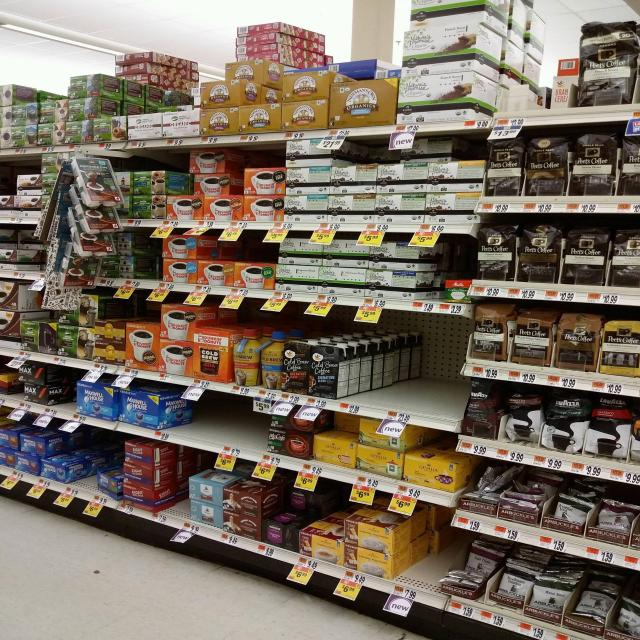void: (422, 340, 462, 417), (203, 399, 251, 438), (410, 555, 447, 588)
